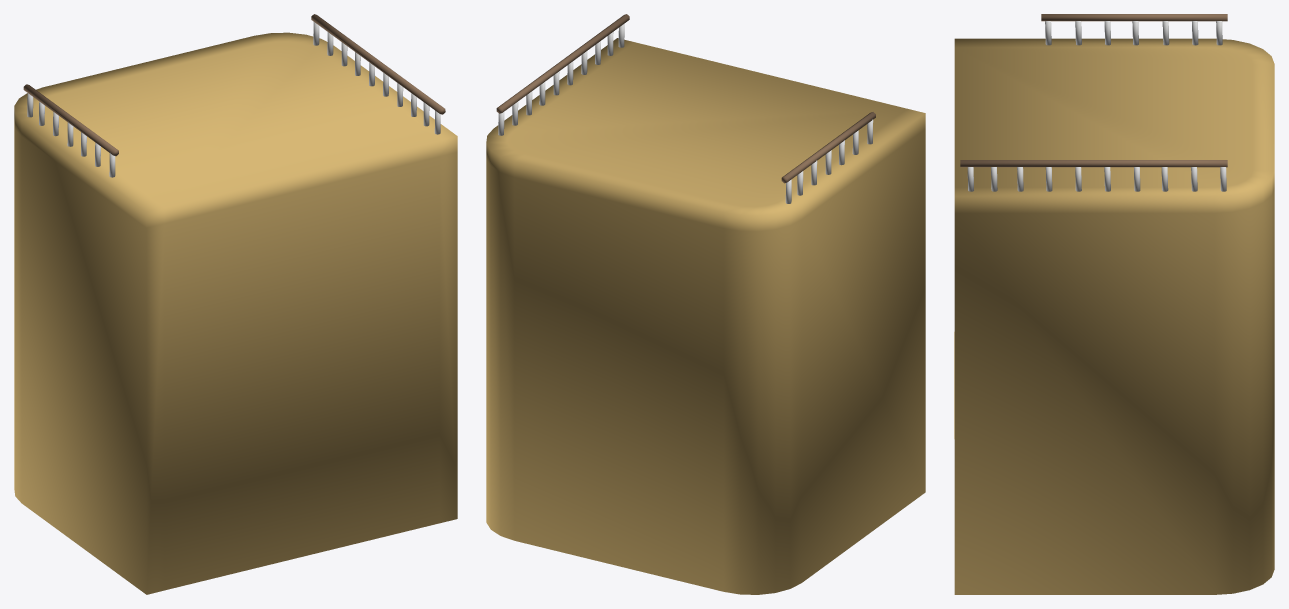
Rendered from Map_00_Bridge.fbx.
3 renders of one model, left to right at view 1: azimuth 30°, elevation 25°; view 2: azimuth 150°, elevation 25°; view 3: azimuth 270°, elevation 25°, orthographic. The views are drawn at different scales.
Visible parts, largest first — view 1: Map_land_Bridge; view 2: Map_land_Bridge; view 3: Map_land_Bridge.
Boxes of the visible parts, <box> form: Map_land_Bridge: <box>14,14,457,594</box>; Map_land_Bridge: <box>486,14,925,594</box>; Map_land_Bridge: <box>954,14,1274,594</box>.
Bounding box in the file's own units: 23.71 × 30.01 × 20.31.
